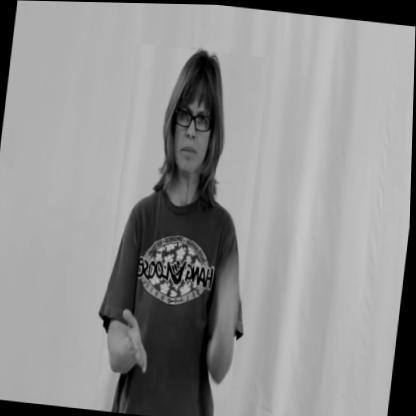Expensive: (95, 42, 269, 416)
